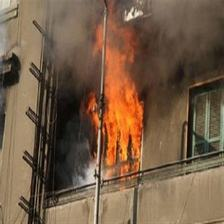fire: (84, 12, 148, 179)
